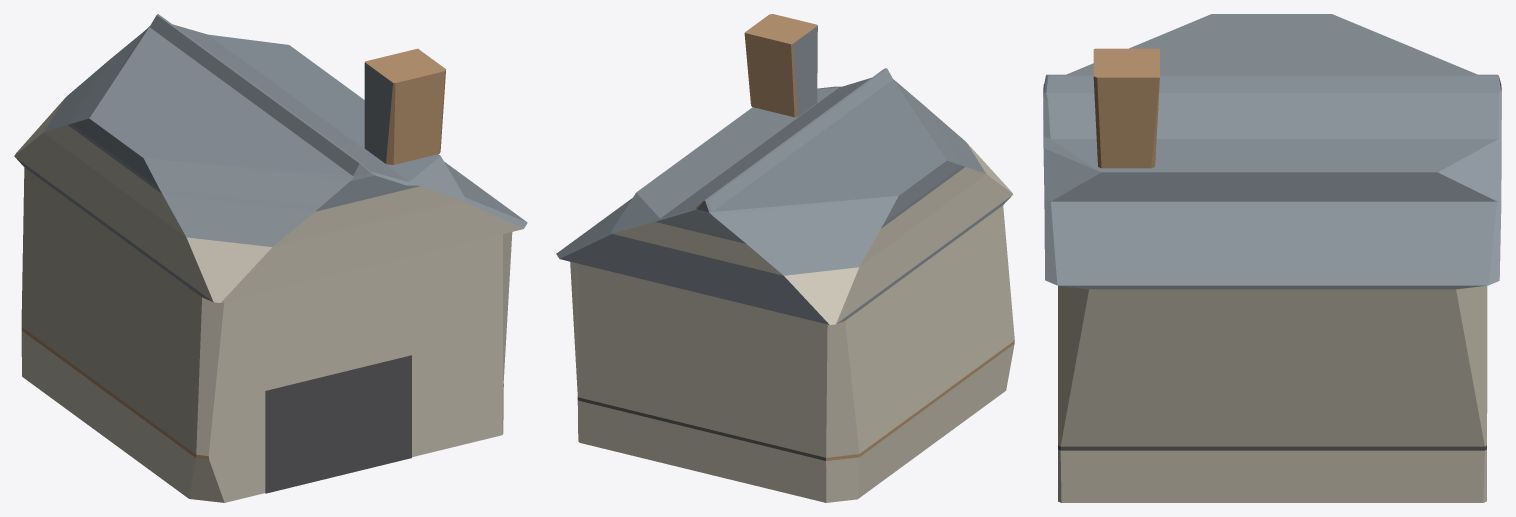
Rendered from loin.glb.
The picture shows the model from 3 angles, left to right: view 1: azimuth 30°, elevation 25°; view 2: azimuth 150°, elevation 25°; view 3: azimuth 270°, elevation 25°; orthographic projection. The views are drawn at different scales.
Parts seen in each view (by area): view 1: loin; view 2: loin; view 3: loin.
Part boxes in pixels (left/top/right/bottom): loin: left=14, top=14, right=527, bottom=502; loin: left=556, top=14, right=1014, bottom=502; loin: left=1043, top=14, right=1501, bottom=502.
Bounding box in the file's own units: 0.7726 × 0.8191 × 0.8441.
